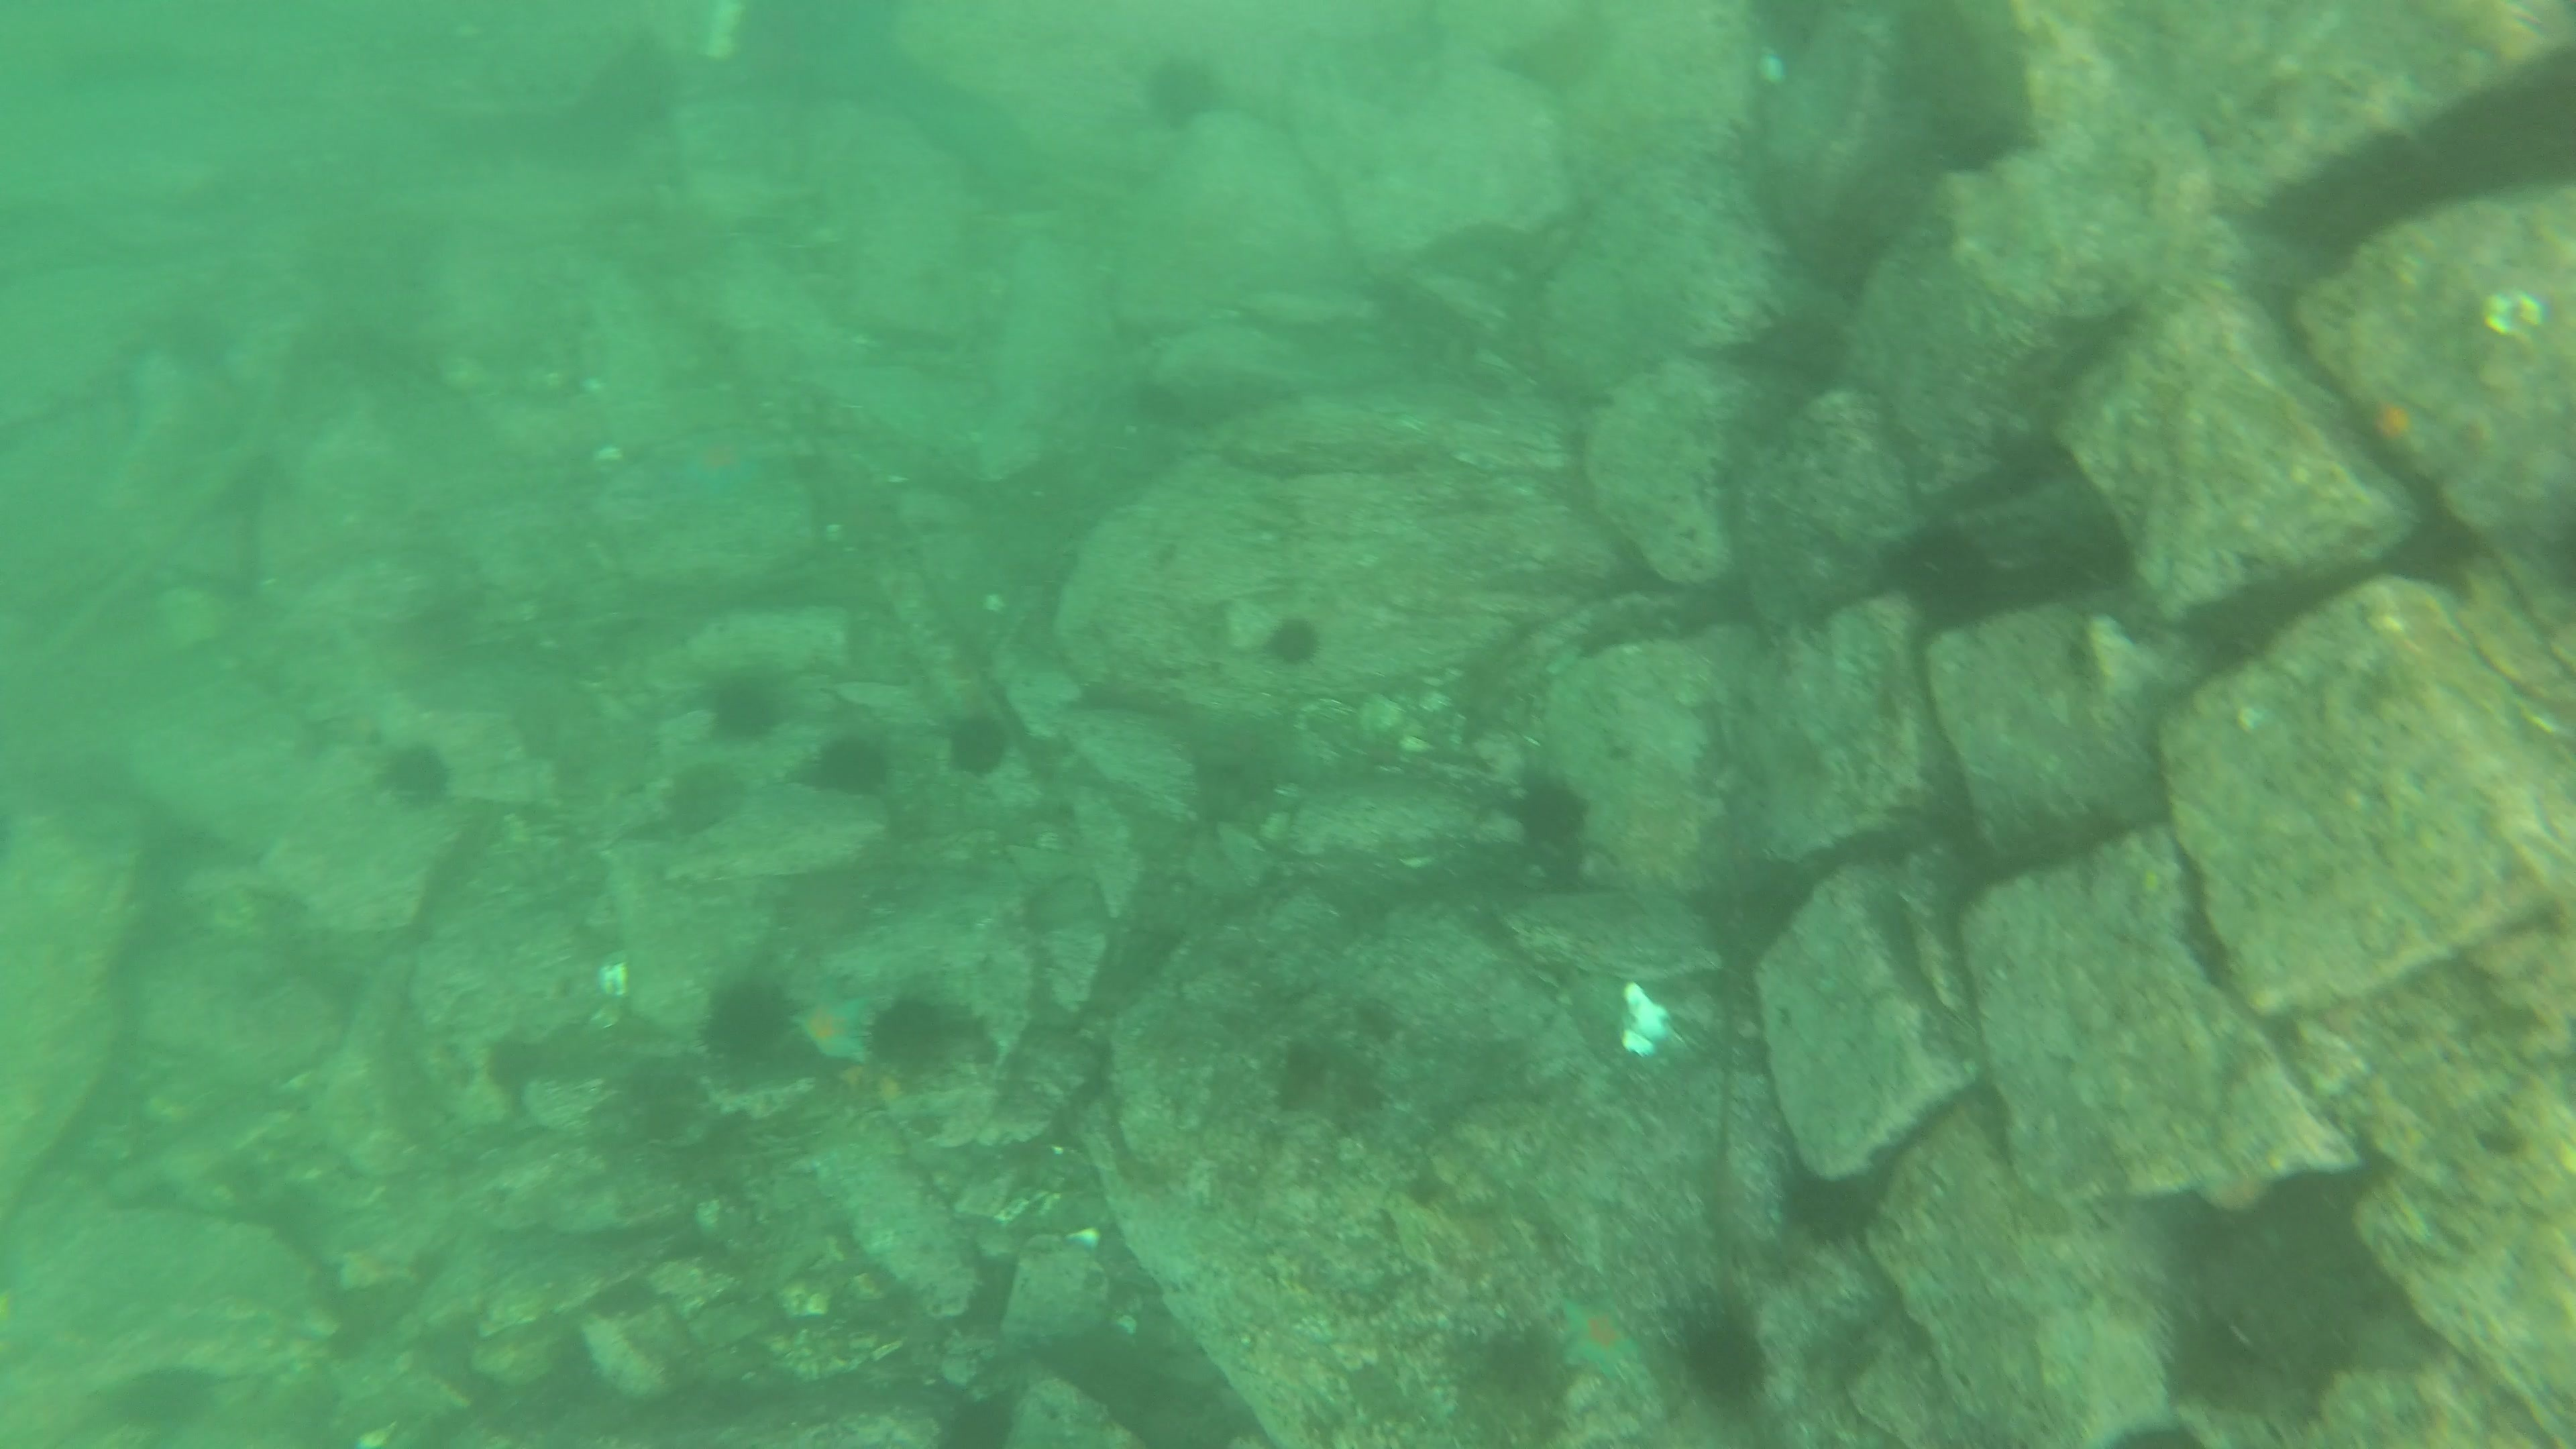echinus: (1882, 517, 2010, 633), (694, 966, 805, 1079), (1670, 1297, 1776, 1414), (1773, 1155, 1897, 1254), (858, 982, 973, 1086), (97, 1355, 225, 1440), (1502, 764, 1599, 867), (695, 660, 793, 750), (1134, 48, 1231, 138), (801, 725, 899, 805), (658, 757, 750, 840), (370, 732, 460, 816), (936, 701, 1019, 784), (1256, 609, 1329, 672)
starfish: (640, 414, 794, 517), (1545, 1283, 1652, 1387), (2346, 377, 2456, 474), (786, 982, 879, 1074)
